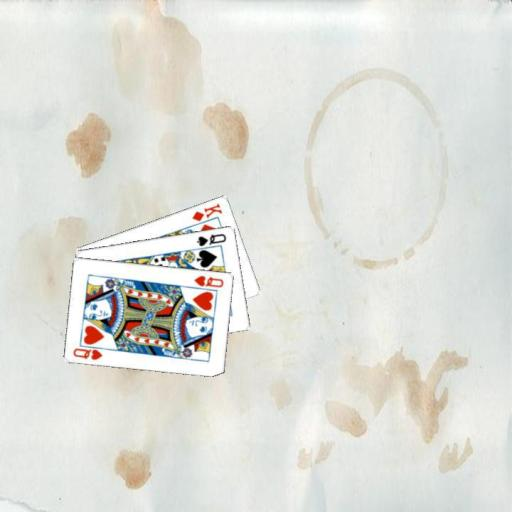KD: (189, 200, 224, 223)
QH: (70, 342, 109, 362), (192, 272, 226, 289)
QS: (194, 231, 228, 248)
